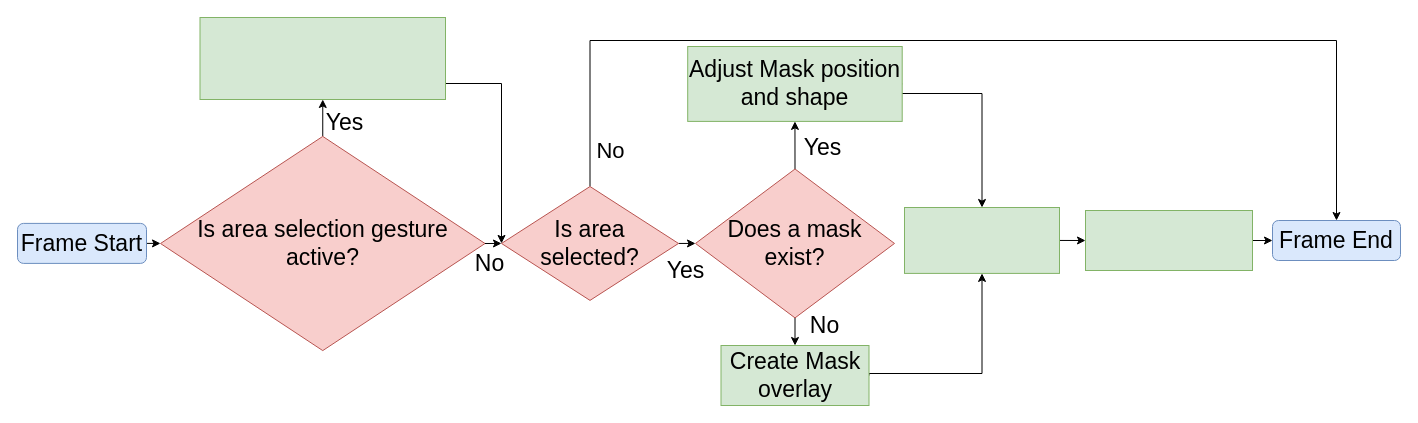
Image size: 1418x423. Some labels were removed from this diagram. Here are the shapes that lost their labels. From the top down, the box of each, then its label:
(199, 16, 446, 100): Area Selection using hand positions
(904, 206, 1060, 273): Fill mask using inpainting
(1084, 210, 1252, 270): Schedule Evaluation Jobs
